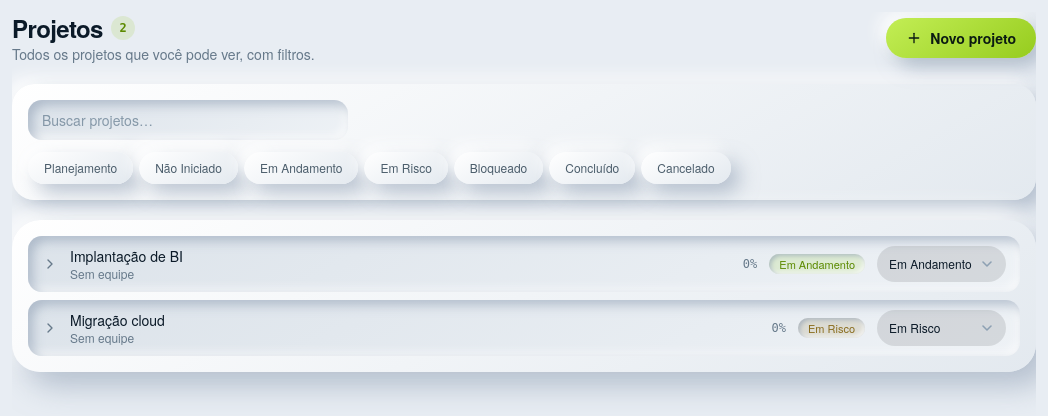
it: Projects page › filters the visible projects when a status filter is toggled
Expected: the text "Implantação de BI" is shown, [70,246,183,266]
Click the button "Em Risco" at (406, 168), box [364,152,448,184]
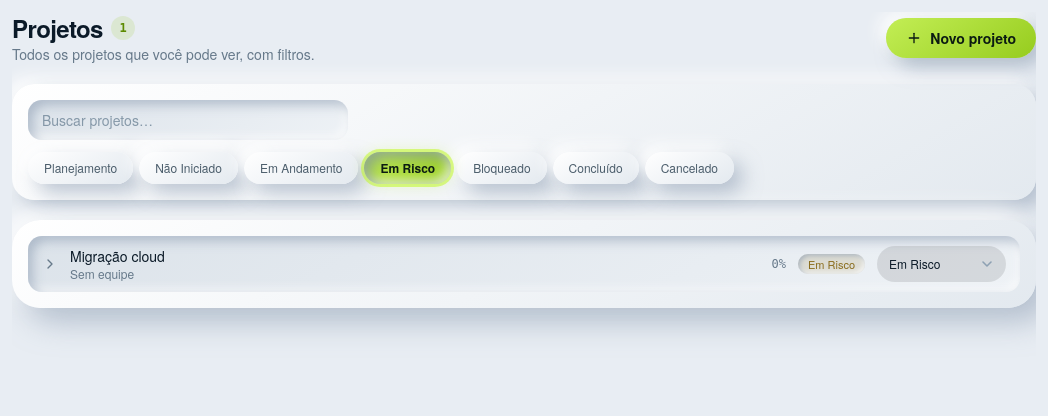
Expected: the text "Migração cloud" is shown, [70,246,165,266]
Result: the button "Implantação de BI" is gone
